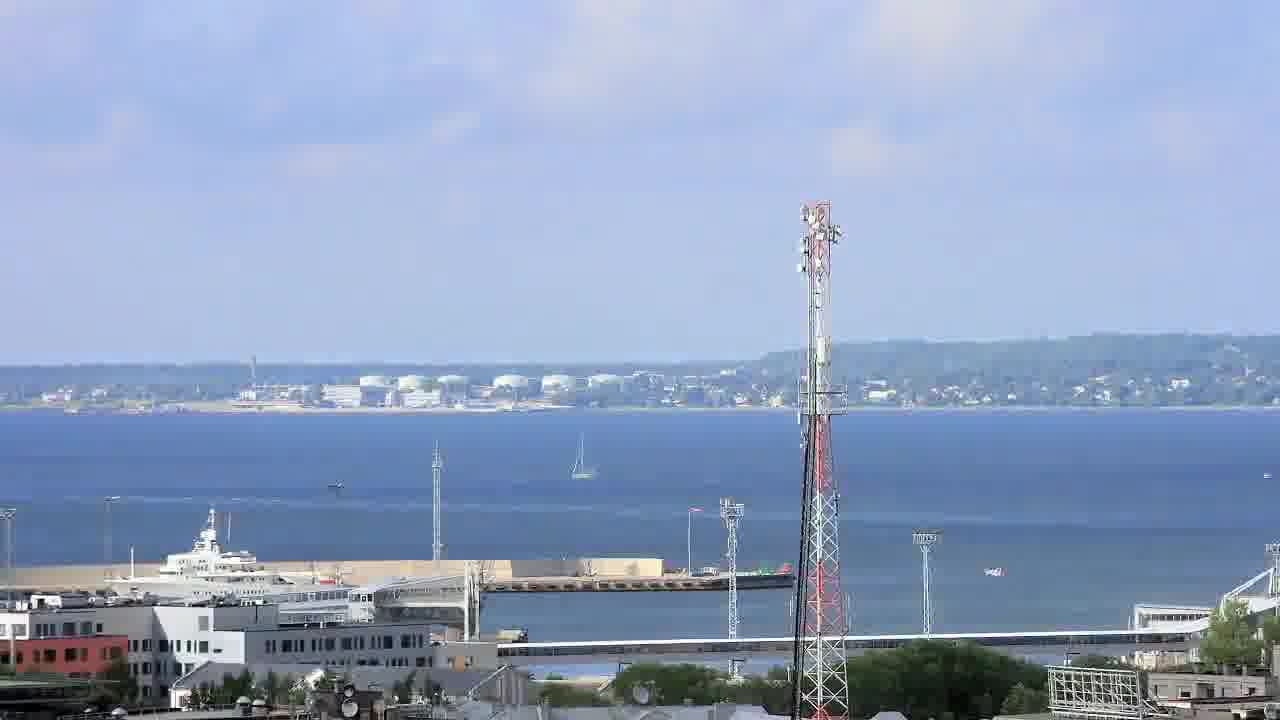type-2: (560, 427, 612, 490)
type-3: (96, 508, 381, 605)
type-4: (975, 548, 1053, 598)
